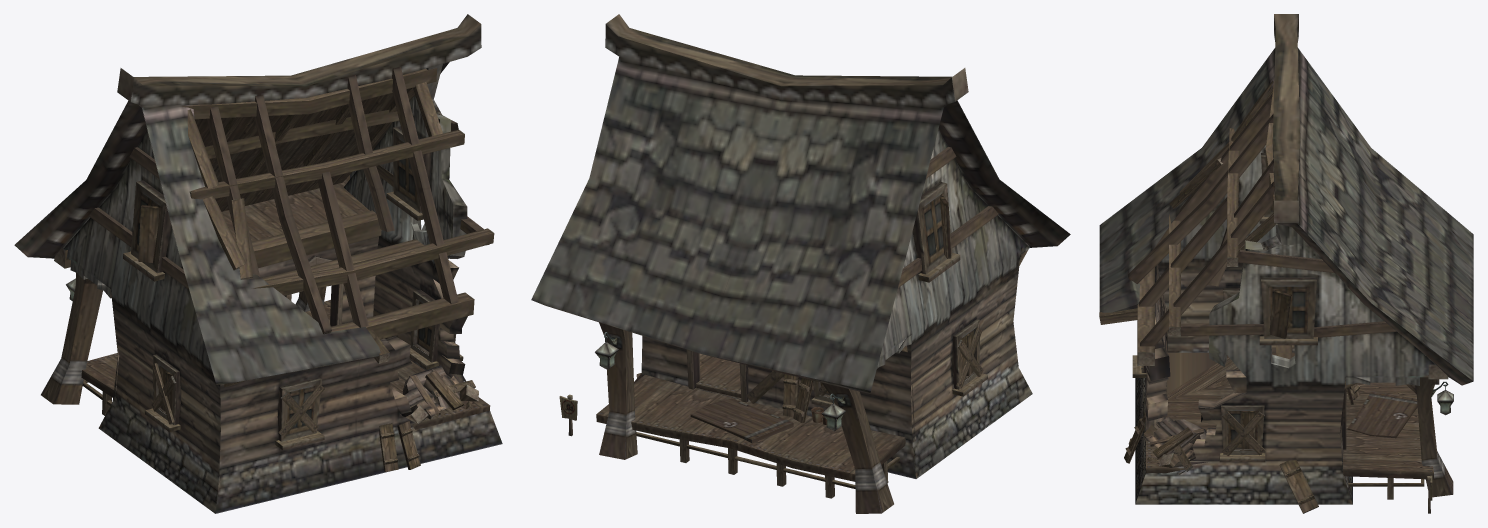
File: DN_lv2_house02.FBX
3 views of the same model, side by side, from view 1: azimuth 30°, elevation 25°; view 2: azimuth 150°, elevation 25°; view 3: azimuth 270°, elevation 25° (orthographic). The views are drawn at different scales.
Visible parts, largest first — view 1: DN_lv2_house02; view 2: DN_lv2_house02; view 3: DN_lv2_house02.
Boxes of the visible parts, bbox=[...] form: DN_lv2_house02: bbox=[14, 14, 502, 513]; DN_lv2_house02: bbox=[531, 14, 1070, 513]; DN_lv2_house02: bbox=[1099, 14, 1473, 513].
Bounding box in the file's own units: 861 × 886 × 832.
